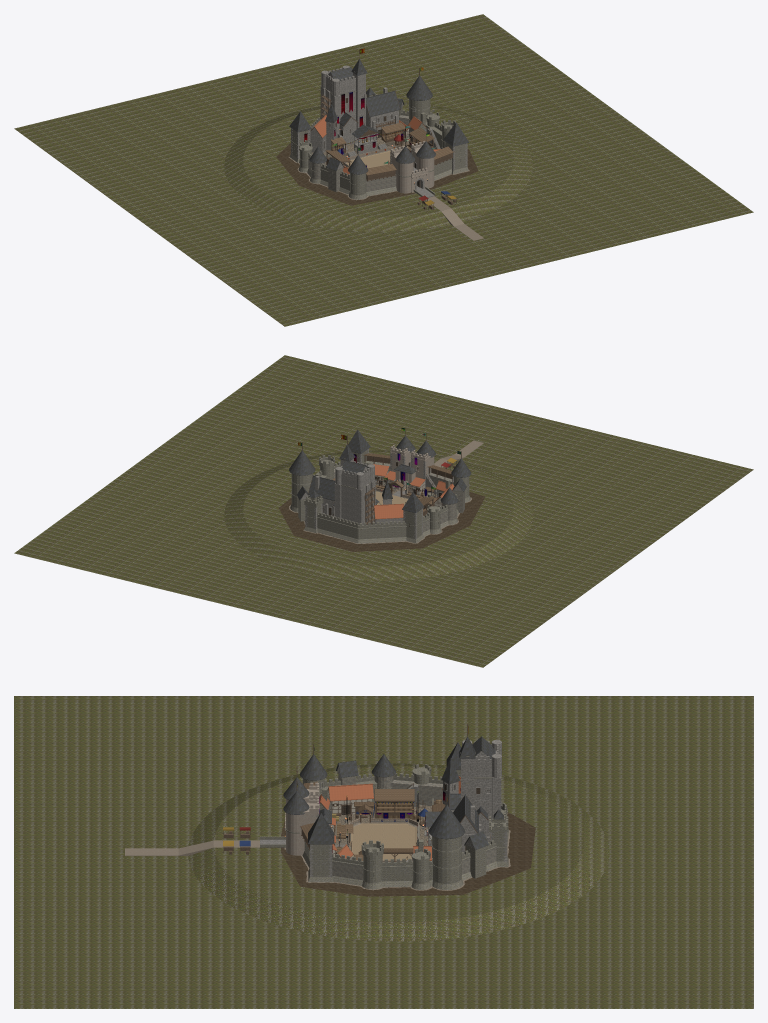
File: borg.glb
3 renders of one model, top to bottom at view 1: azimuth 30°, elevation 25°; view 2: azimuth 150°, elevation 25°; view 3: azimuth 270°, elevation 25°, orthographic. The views are drawn at different scales.
Visible parts, largest first — view 1: Mark_Omgivning, Mark_Kulle, Mark_Grav, Stora_Salen_Tak, Karntorn, Horn_Kvaderstenar; view 2: Mark_Omgivning, Mark_Kulle, Mark_Grav, Karntorn, Karntorn_Sockel_Stravpelare, Horn_Kvaderstenar, Murar_Sockel_Slant, Mur_08; view 3: Mark_Omgivning, Mark_Kulle, Mark_Grav, Arena_Stridsyta_Listor, Torn_NO_rund_stort, Karntorn, Torn_NO_rund_stort_Tak, Torn_Sockel_Slant, Mur_09, Mark_Gard, Stall_Tak, Murar_Sockel_Slant (+7 smaller).
Part boxes in pixels (bbox=[...]): Mark_Omgivning: bbox=[14, 14, 753, 326]; Mark_Kulle: bbox=[224, 102, 532, 231]; Mark_Grav: bbox=[276, 143, 478, 205]; Stora_Salen_Tak: bbox=[366, 91, 399, 116]; Karntorn: bbox=[325, 79, 355, 121]; Horn_Kvaderstenar: bbox=[291, 111, 467, 170]; Mark_Omgivning: bbox=[14, 355, 753, 667]; Mark_Kulle: bbox=[224, 450, 532, 580]; Mark_Grav: bbox=[279, 492, 484, 551]; Karntorn: bbox=[341, 472, 370, 524]; Karntorn_Sockel_Stravpelare: bbox=[334, 480, 375, 525]; Horn_Kvaderstenar: bbox=[305, 448, 438, 539]; Murar_Sockel_Slant: bbox=[304, 509, 458, 543]; Mur_08: bbox=[357, 526, 406, 539]; Mark_Omgivning: bbox=[14, 696, 753, 1008]; Mark_Kulle: bbox=[188, 763, 609, 941]; Mark_Grav: bbox=[281, 812, 535, 896]; Arena_Stridsyta_Listor: bbox=[350, 823, 414, 860]; Torn_NO_rund_stort: bbox=[432, 836, 461, 883]; Karntorn: bbox=[474, 750, 496, 836]; Torn_NO_rund_stort_Tak: bbox=[428, 804, 464, 839]; Torn_Sockel_Slant: bbox=[308, 804, 508, 889]; Mur_09: bbox=[391, 780, 442, 805]; Mark_Gard: bbox=[329, 805, 509, 852]; Stall_Tak: bbox=[328, 784, 373, 801]; Murar_Sockel_Slant: bbox=[302, 829, 508, 887].
Bounding box in the file's own units: 200 × 39.5 × 200.
Materials: 28 (27 with a texture image).
